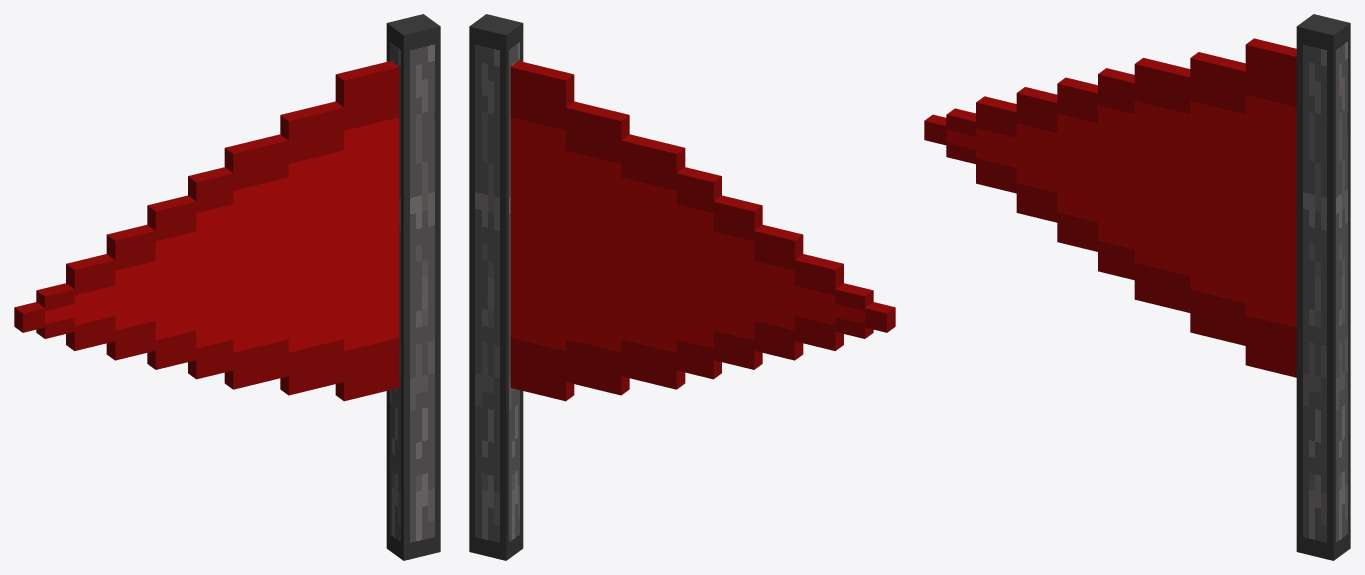
Rendered from bandeira_red_flag.fbx.
3 views of the same model, side by side, from view 1: azimuth 30°, elevation 25°; view 2: azimuth 150°, elevation 25°; view 3: azimuth 330°, elevation 25° (orthographic).
Parts seen in each view (by area): view 1: cube_0, cube_2, cube_1, cube_3, cube_4, cube_5, cube_6, cube_7, cube_8, cube_9; view 2: cube_0, cube_2, cube_1, cube_3, cube_4, cube_5, cube_6, cube_7, cube_8, cube_9; view 3: cube_0, cube_2, cube_1, cube_3, cube_4, cube_5, cube_6, cube_7, cube_8, cube_9.
Part boxes in pixels (box(x1,y1,x2,y2)): cube_0: box(386, 14, 440, 560); cube_2: box(335, 61, 399, 401); cube_1: box(280, 101, 343, 395); cube_3: box(224, 134, 288, 389); cube_4: box(188, 167, 233, 379); cube_5: box(147, 195, 196, 369); cube_6: box(106, 225, 155, 360); cube_7: box(66, 254, 115, 350); cube_8: box(36, 283, 74, 338); cube_9: box(14, 302, 44, 332); cube_0: box(469, 14, 523, 560); cube_2: box(510, 61, 574, 401); cube_1: box(566, 101, 629, 395); cube_3: box(621, 134, 685, 389); cube_4: box(676, 167, 721, 379); cube_5: box(713, 195, 762, 369); cube_6: box(754, 225, 803, 360); cube_7: box(794, 254, 843, 350); cube_8: box(835, 283, 873, 338); cube_9: box(865, 302, 895, 332); cube_0: box(1296, 14, 1350, 560); cube_2: box(1245, 38, 1296, 377); cube_1: box(1190, 52, 1245, 345); cube_3: box(1134, 58, 1190, 312); cube_4: box(1098, 68, 1134, 280); cube_5: box(1057, 77, 1097, 251); cube_6: box(1016, 87, 1057, 222); cube_7: box(976, 96, 1016, 193); cube_8: box(946, 108, 975, 164); cube_9: box(924, 114, 946, 145).
Bounding box in the file's own units: 0.7 × 0.85 × 0.05.
Materials: 1 (1 with a texture image).
